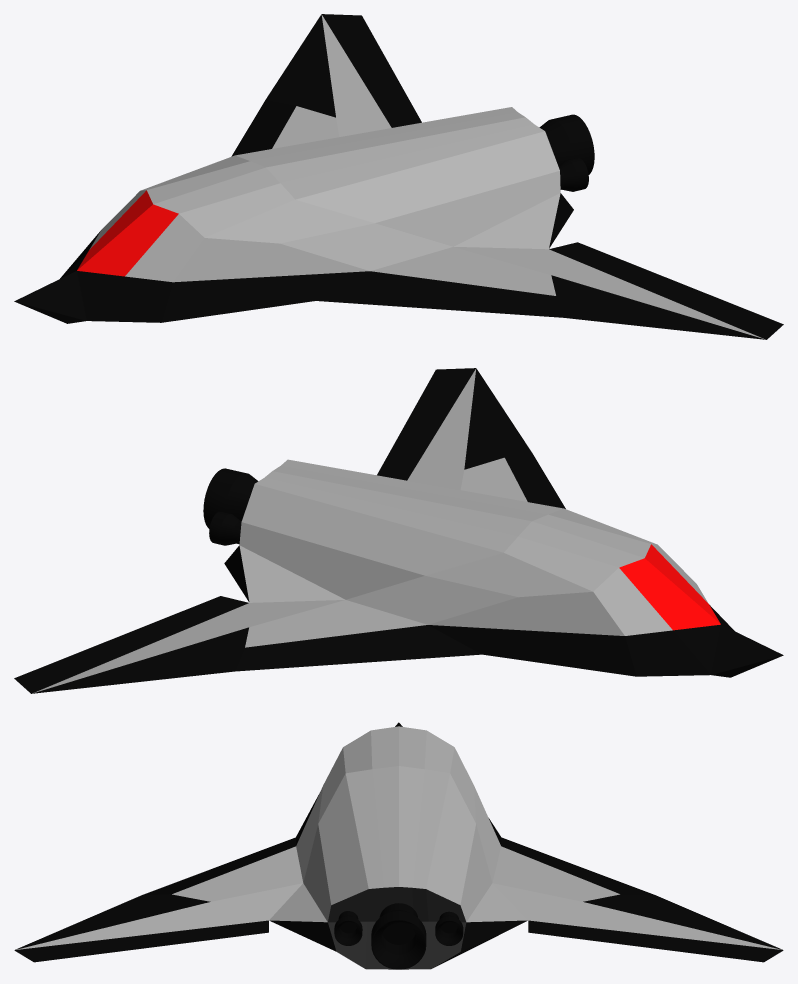
Rendered from enemy.fbx.
3 views of the same model, one above another, from view 1: azimuth 30°, elevation 25°; view 2: azimuth 150°, elevation 25°; view 3: azimuth 270°, elevation 25° (orthographic). The views are drawn at different scales.
Parts seen in each view (by area): view 1: small spaceship; view 2: small spaceship; view 3: small spaceship.
Part boxes in pixels (<box>): small spaceship: <box>14,14,783,339</box>; small spaceship: <box>14,368,783,693</box>; small spaceship: <box>14,722,783,969</box>.
Bounding box in the file's own units: 2910 × 542 × 3972.
